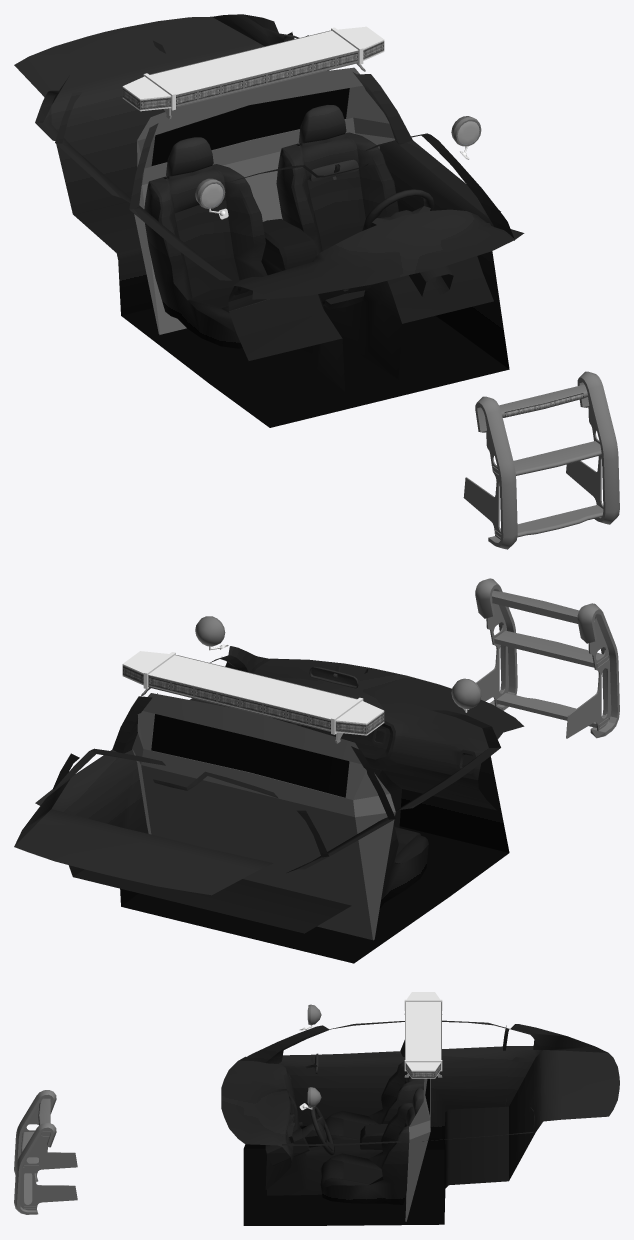
Rendered from misc_tier_a.fbx.
3 renders of one model, top to bottom at view 1: azimuth 30°, elevation 25°; view 2: azimuth 150°, elevation 25°; view 3: azimuth 270°, elevation 25°, orthographic. The views are drawn at different scales.
Parts seen in each view (by area): view 1: CG_HC_Car_interior_tier_a, CG_HC_Plastic_Matte_tier_a, CG_HC_Rubber_tier_a, CG_HC_Chrome_tier_a, CG_HC_Plastic_Gloss_tier_a, CG_HC_Window_tier_a, CG_HC_Police_tier_a, CG_HC_Glass_tier_a; view 2: CG_HC_Car_interior_tier_a, CG_HC_Plastic_Matte_tier_a, CG_HC_Plastic_Gloss_tier_a, CG_HC_Window_tier_a, CG_HC_Chrome_tier_a, CG_HC_Rubber_tier_a, CG_HC_Police_tier_a; view 3: CG_HC_Car_interior_tier_a, CG_HC_Plastic_Gloss_tier_a, CG_HC_Chrome_tier_a, CG_HC_Rubber_tier_a, CG_HC_Plastic_Matte_tier_a.
Boxes of the visible parts, <box> form: CG_HC_Car_interior_tier_a: <box>14,14,524,427</box>; CG_HC_Plastic_Matte_tier_a: <box>134,67,394,334</box>; CG_HC_Rubber_tier_a: <box>122,30,619,549</box>; CG_HC_Chrome_tier_a: <box>122,26,469,219</box>; CG_HC_Plastic_Gloss_tier_a: <box>164,63,603,539</box>; CG_HC_Window_tier_a: <box>151,88,349,165</box>; CG_HC_Police_tier_a: <box>123,42,583,417</box>; CG_HC_Glass_tier_a: <box>201,121,479,206</box>; CG_HC_Car_interior_tier_a: <box>14,646,524,963</box>; CG_HC_Plastic_Matte_tier_a: <box>132,693,395,940</box>; CG_HC_Plastic_Gloss_tier_a: <box>141,590,611,743</box>; CG_HC_Window_tier_a: <box>151,714,349,797</box>; CG_HC_Chrome_tier_a: <box>122,644,469,735</box>; CG_HC_Rubber_tier_a: <box>122,578,619,738</box>; CG_HC_Police_tier_a: <box>123,667,383,733</box>; CG_HC_Car_interior_tier_a: <box>221,1020,619,1225</box>; CG_HC_Plastic_Gloss_tier_a: <box>19,1004,442,1210</box>; CG_HC_Chrome_tier_a: <box>299,992,442,1110</box>; CG_HC_Rubber_tier_a: <box>14,1002,441,1214</box>; CG_HC_Plastic_Matte_tier_a: <box>405,1078,430,1221</box>.
Bounding box in the file's own units: 1.62 × 1.39 × 4.54.
